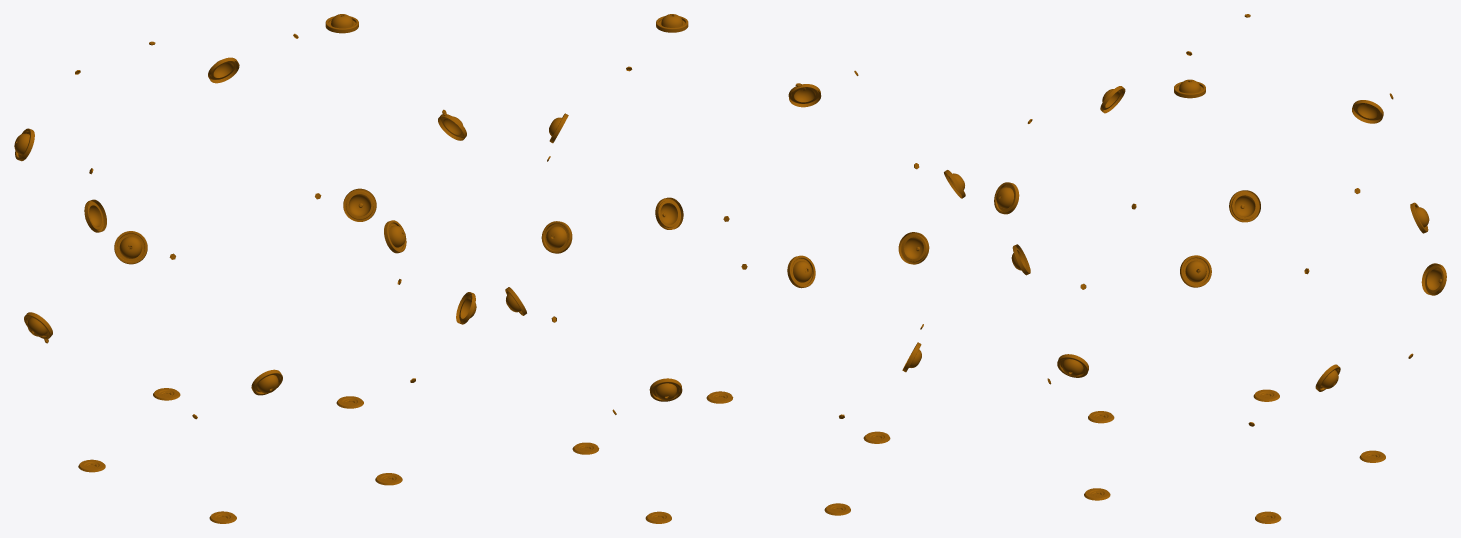
Rendered from shield3.fbx.
The picture shows the model from 3 angles, left to right: view 1: azimuth 30°, elevation 25°; view 2: azimuth 150°, elevation 25°; view 3: azimuth 270°, elevation 25°; orthographic projection. The views are drawn at different scales.
Parts seen in each view (by area): view 1: shield3; view 2: shield3; view 3: shield3.
Boxes of the visible parts, x1,y1,x2,y2 form: shield3: (14,14,476,523); shield3: (505,14,965,523); shield3: (994,14,1446,523).
Bounding box in the file's own units: 47.05 × 47.34 × 46.89.
